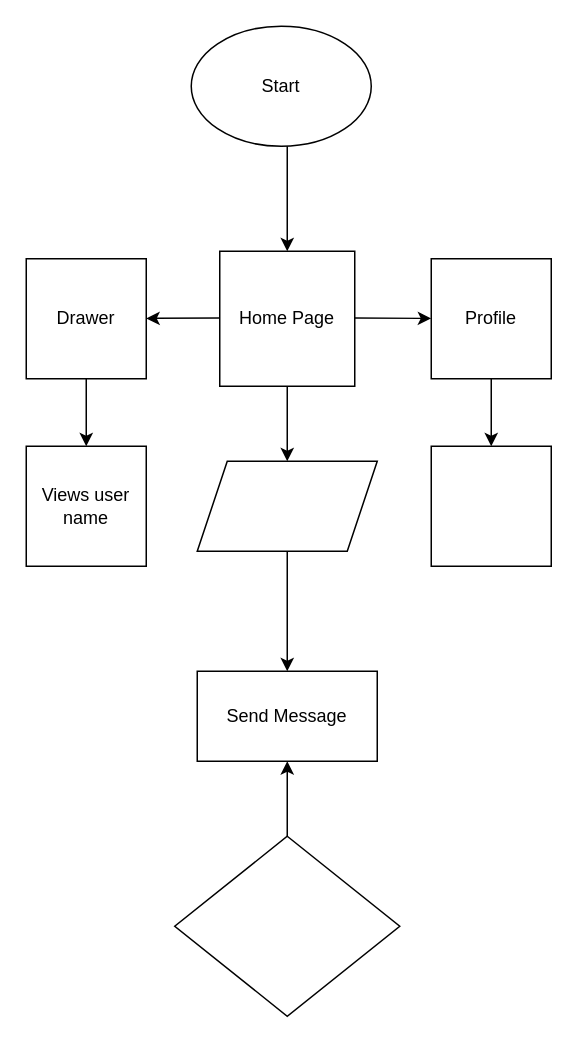
Image size: 578x1043. Some labels were removed from this diagram. Each missing label, with the centre of its shape:
"Add User names and Save" goes at (x=490, y=505).
"checks for recharge card" goes at (x=286, y=925).
"Taps send button" goes at (x=286, y=505).
